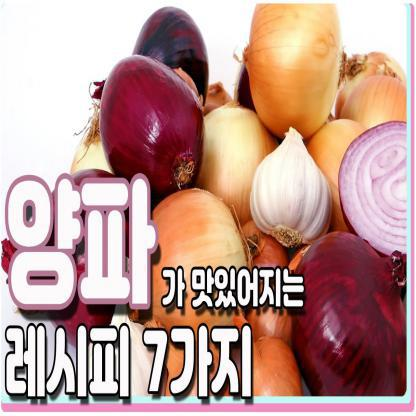onion: (242, 0, 348, 120), (160, 184, 245, 261)
